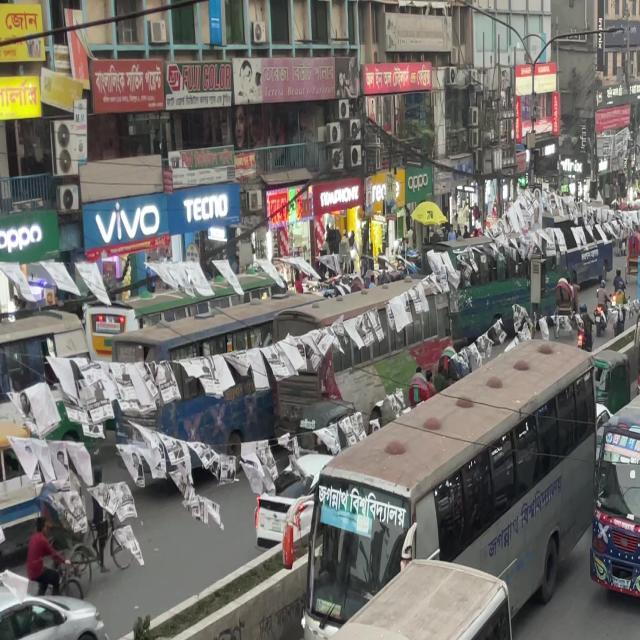bus: (283, 308, 595, 640), (84, 560, 557, 640)
car: (587, 347, 640, 617)
